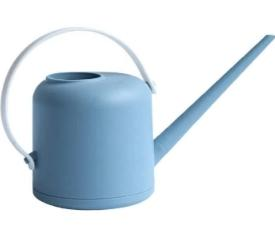ARROSOIR: (0, 3, 275, 236)
